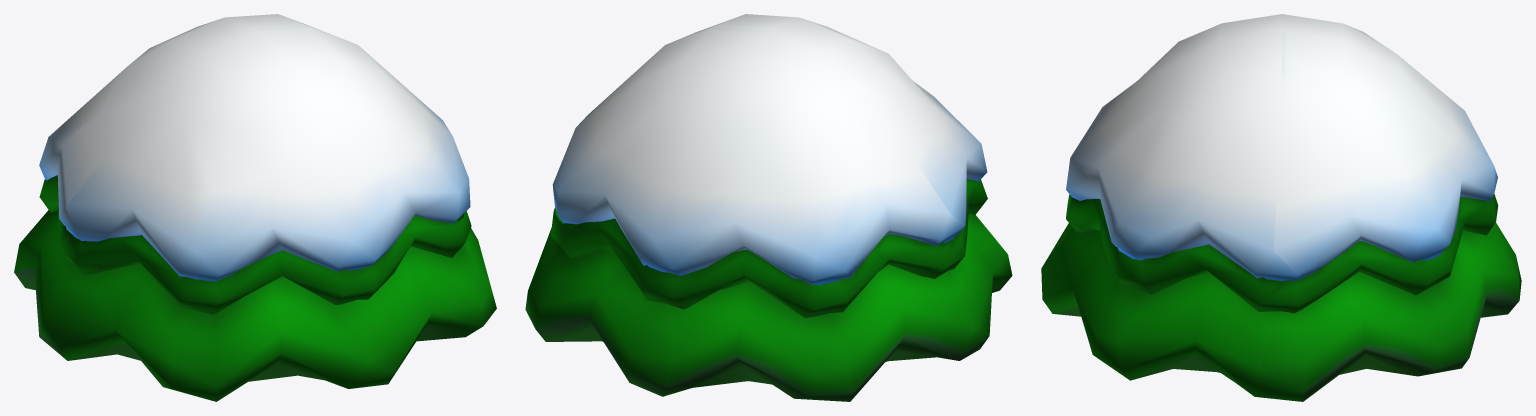
The model's file is bush2.fbx.
The picture shows the model from 3 angles, left to right: view 1: azimuth 30°, elevation 25°; view 2: azimuth 150°, elevation 25°; view 3: azimuth 270°, elevation 25°; orthographic projection.
Parts seen in each view (by area): view 1: default; view 2: default; view 3: default.
Part boxes in pixels (bbox=[...]): default: bbox=[14, 14, 496, 401]; default: bbox=[525, 14, 1012, 401]; default: bbox=[1041, 14, 1521, 401].
Size of the model in its own units: 156 by 100 by 156.
